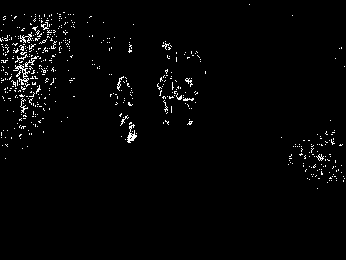person: (108, 76, 138, 145), (157, 67, 177, 127)
